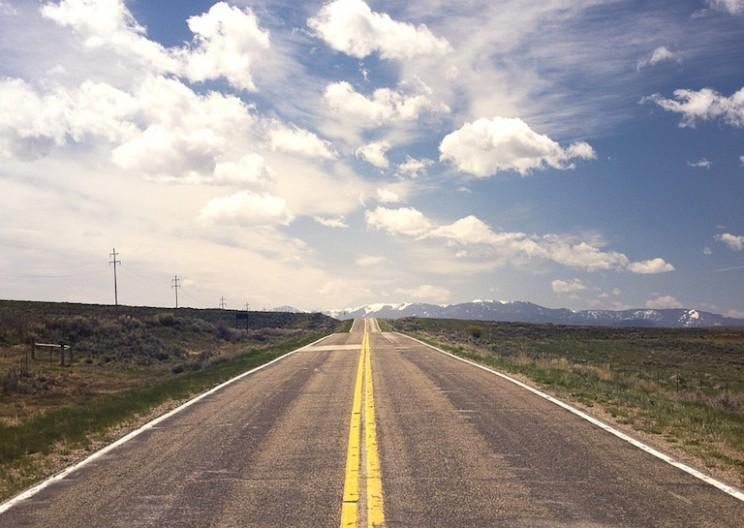cloud: (8, 2, 566, 222)
